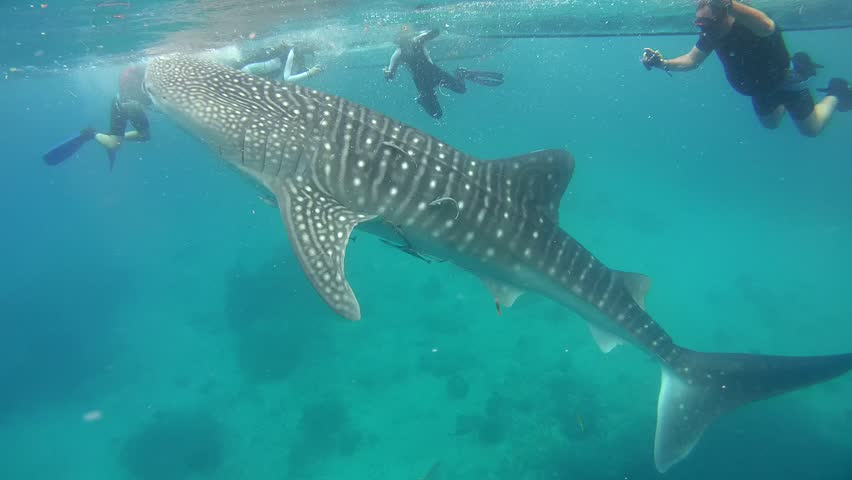Rhincodon_typusw: (142, 56, 819, 475)
